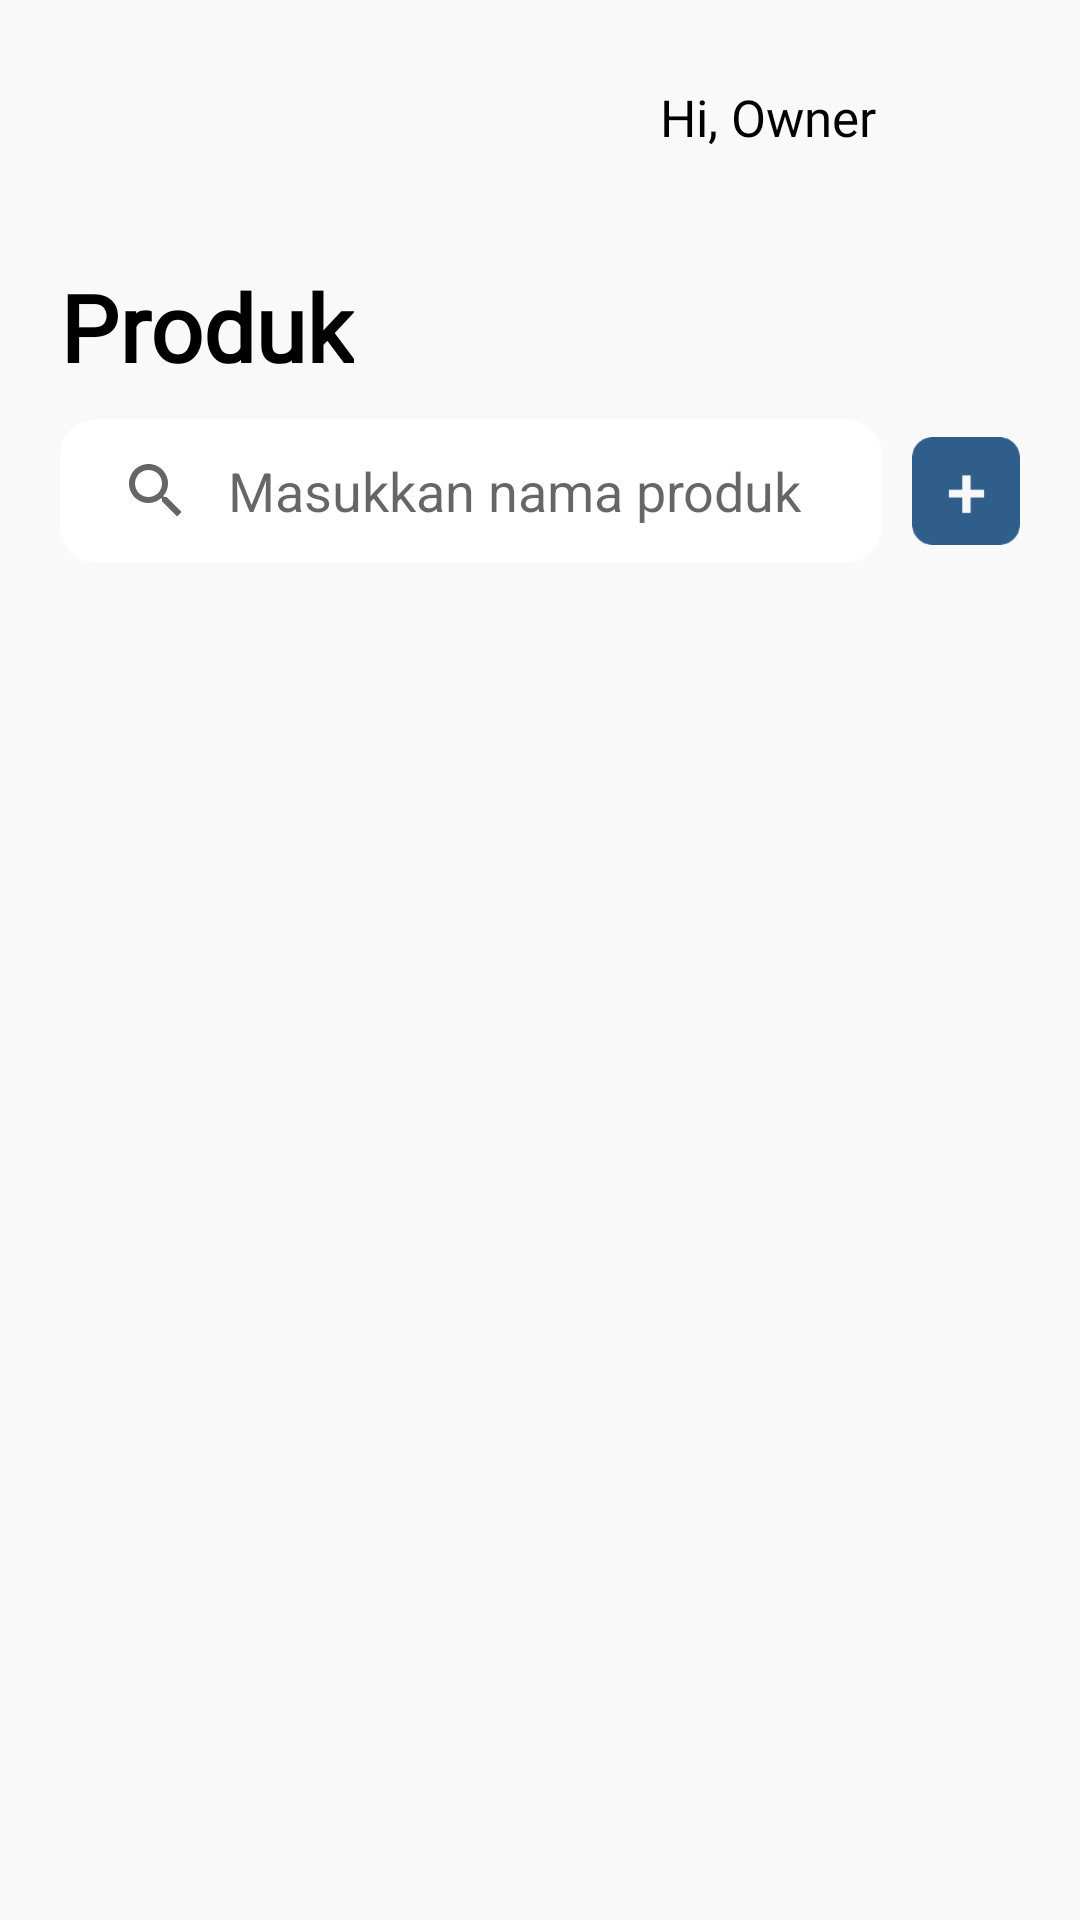

Screen size 1080x1920. Icon name, then its center in pixels as (x=x, y=y):
btnadd: (x=966, y=491)
